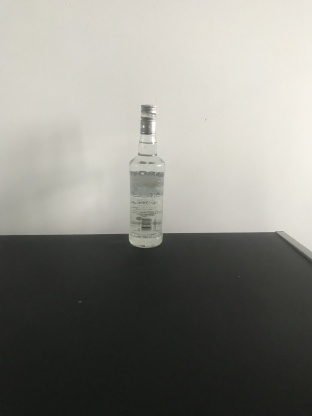nakretka: (139, 103, 157, 134)
